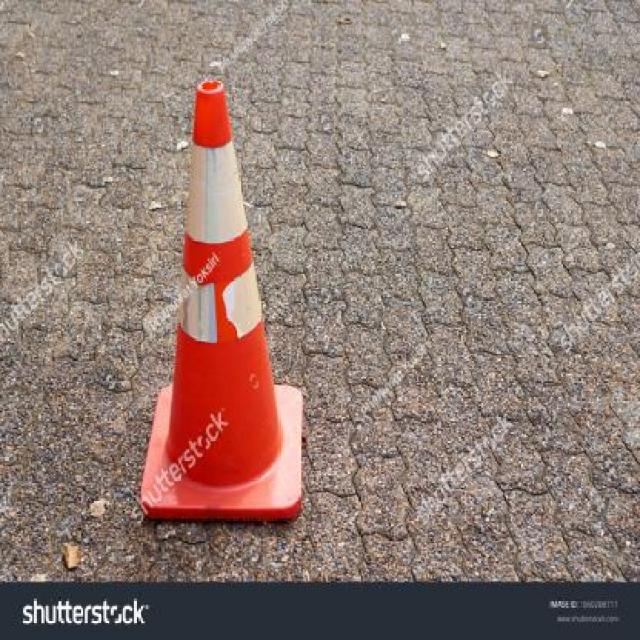Cone: (130, 70, 316, 530)
